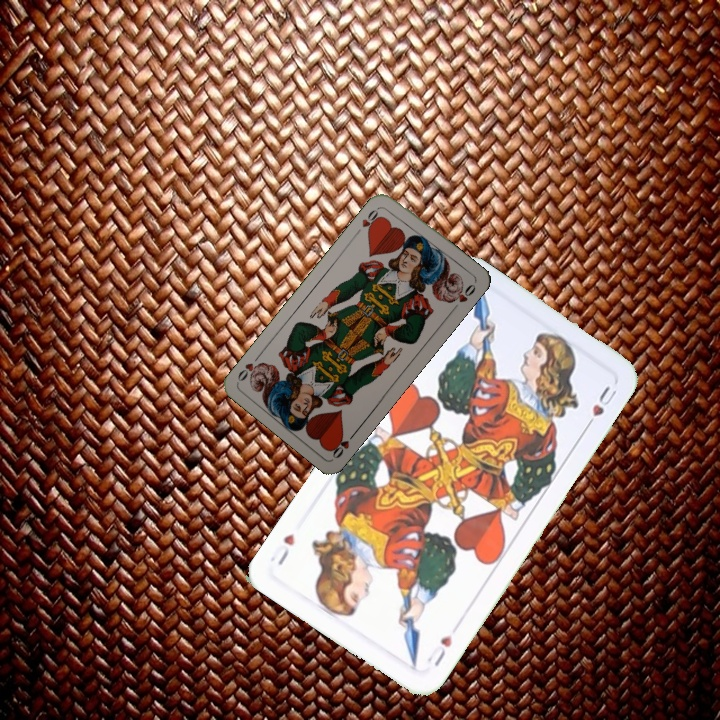HO: (326, 427, 359, 461), (352, 203, 384, 237)
HU: (423, 631, 455, 670)
